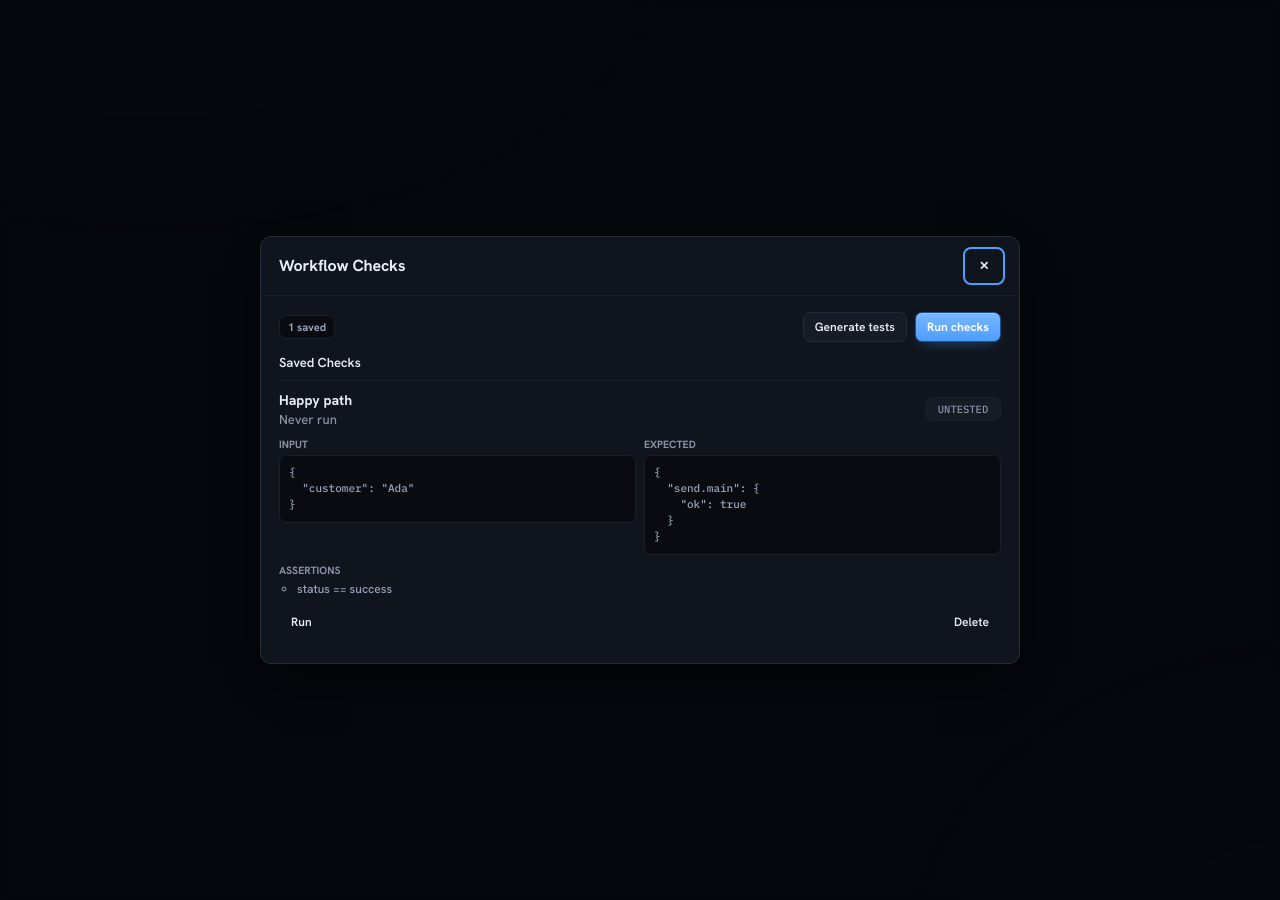
WorkflowChecksPanel › runs saved workflow checks and shows pass status
Expected: the text "Happy path" is shown, x1=279 y1=391 x2=352 y2=409
Click the button "Run checks": (958, 327) x1=915 y1=312 x2=1001 y2=342
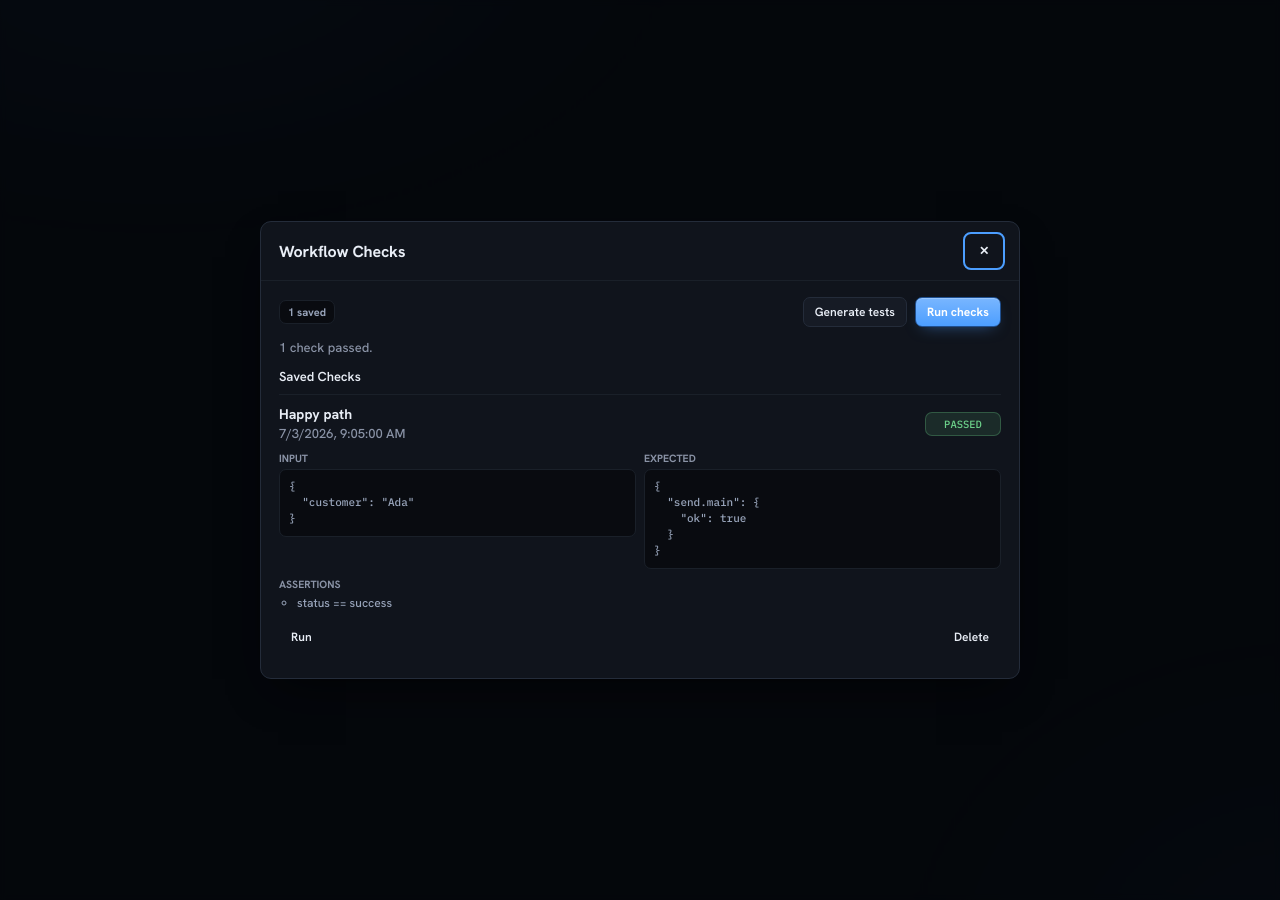
Now the text "1 check passed." is shown, box x1=279 y1=340 x2=372 y2=356
Now the text "passed" is shown, box x1=925 y1=412 x2=1001 y2=436
